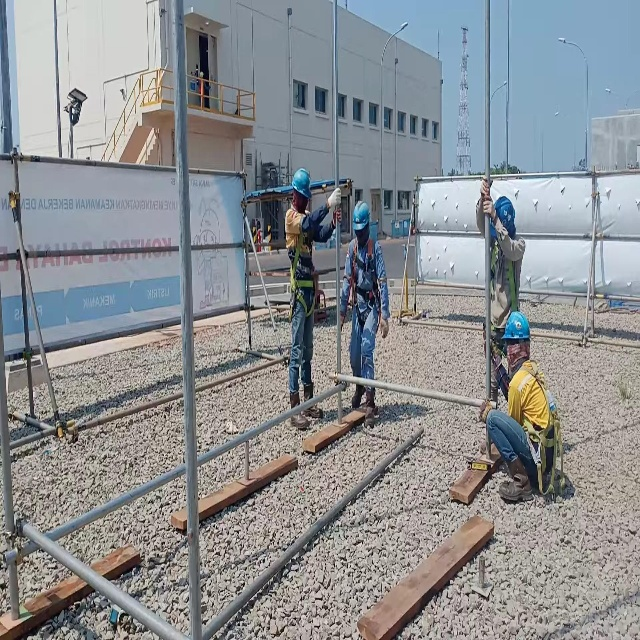Arnes_seguridad: (520, 356, 570, 504), (484, 237, 519, 367), (349, 234, 381, 332), (287, 234, 320, 326)
